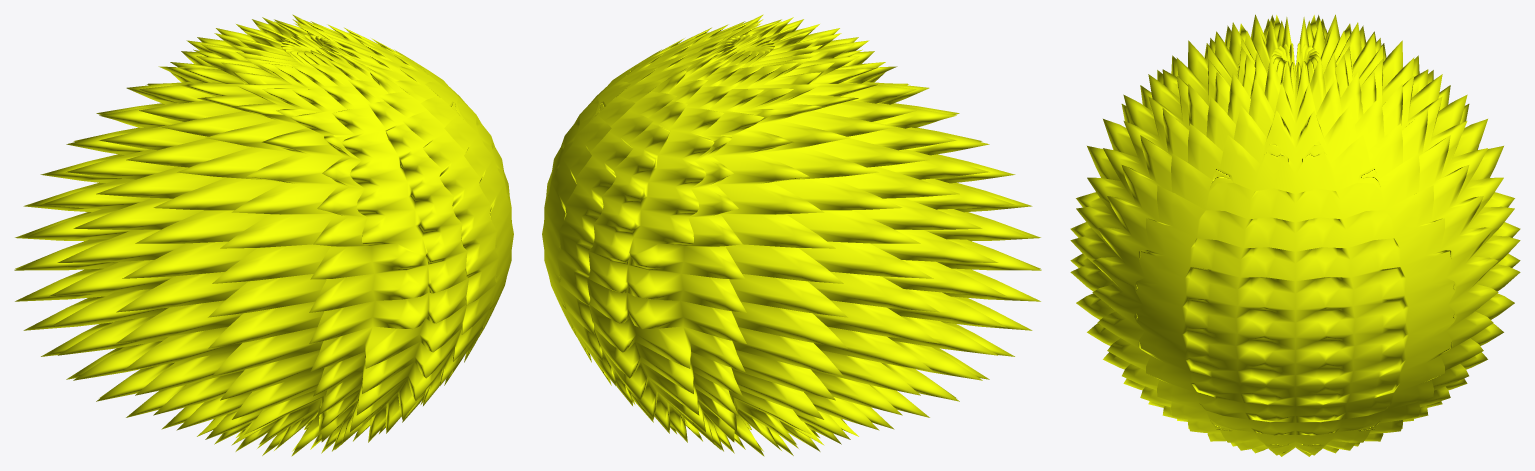
Rendered from vis.obj.
3 views of the same model, side by side, from view 1: azimuth 30°, elevation 25°; view 2: azimuth 150°, elevation 25°; view 3: azimuth 270°, elevation 25° (orthographic).
Parts seen in each view (by area): view 1: pSphere1; view 2: pSphere1; view 3: pSphere1.
Part boxes in pixels (bbox=[...]): pSphere1: bbox=[14, 14, 513, 456]; pSphere1: bbox=[542, 14, 1041, 456]; pSphere1: bbox=[1070, 14, 1520, 456].
Size of the model in its own units: 2.99 by 2.41 by 2.5.
